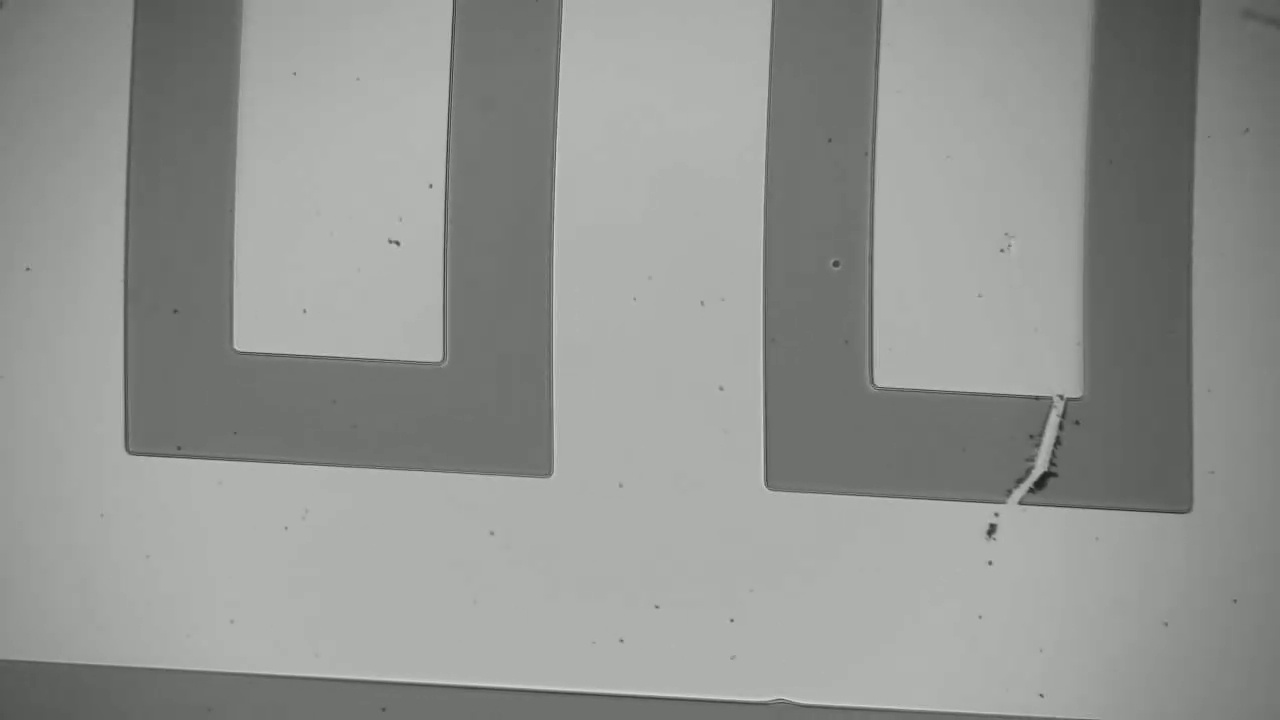Short_circuit: (974, 379, 1084, 524)
